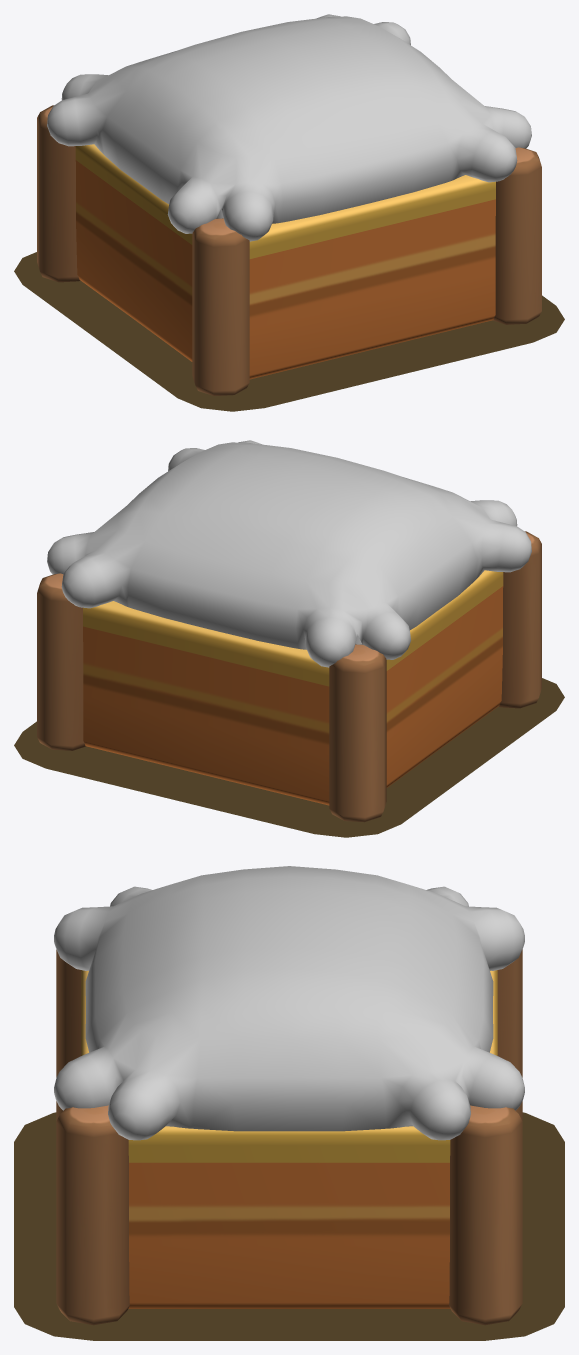
File: Wheat_L05.fbx
3 renders of one model, top to bottom at view 1: azimuth 30°, elevation 25°; view 2: azimuth 150°, elevation 25°; view 3: azimuth 270°, elevation 25°, orthographic. The views are drawn at different scales.
Parts seen in each view (by area): view 1: WheatL05_Box, WheatL05_Body, WheatL05_SDW; view 2: WheatL05_Box, WheatL05_Body, WheatL05_SDW; view 3: WheatL05_Body, WheatL05_Box, WheatL05_SDW.
Boxes of the visible parts, left/top/right/bottom form: WheatL05_Box: left=37, top=105, right=541, bottom=396; WheatL05_Body: left=47, top=14, right=531, bottom=241; WheatL05_SDW: left=14, top=252, right=564, bottom=411; WheatL05_Box: left=37, top=531, right=541, bottom=822; WheatL05_Body: left=47, top=440, right=531, bottom=667; WheatL05_SDW: left=14, top=678, right=564, bottom=837; WheatL05_Body: left=54, top=866, right=524, bottom=1140; WheatL05_Box: left=56, top=949, right=522, bottom=1325; WheatL05_SDW: left=14, top=1112, right=564, bottom=1340.
Bounding box in the file's own units: 118 × 73.06 × 118.
